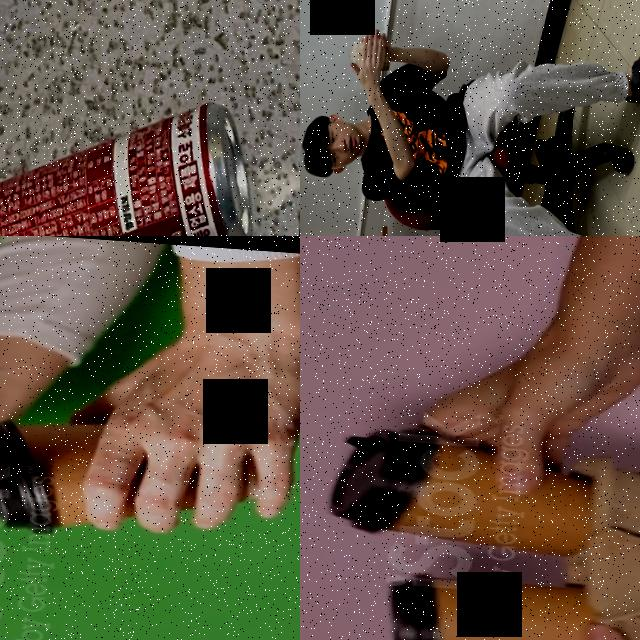can: (0, 76, 267, 236)
cup: (324, 423, 602, 559), (0, 410, 265, 548), (381, 569, 603, 640), (349, 37, 391, 74)
